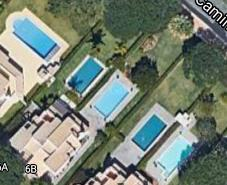pool: (12, 16, 58, 60), (154, 134, 196, 178), (66, 54, 104, 96), (93, 79, 130, 118), (132, 112, 168, 152)
